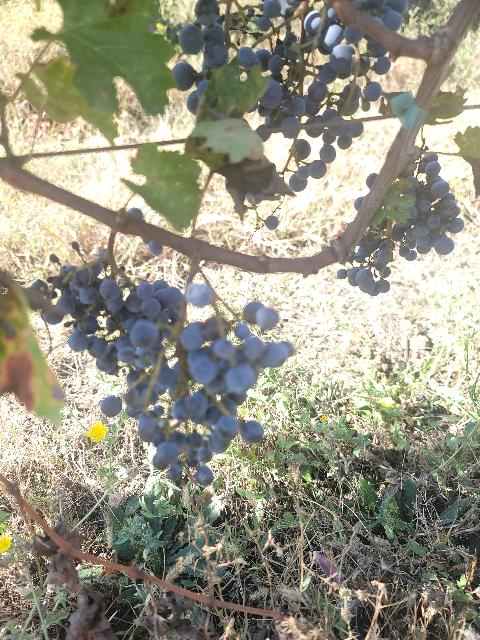grapes: (124, 315, 295, 481), (31, 250, 185, 378), (395, 152, 464, 260)
